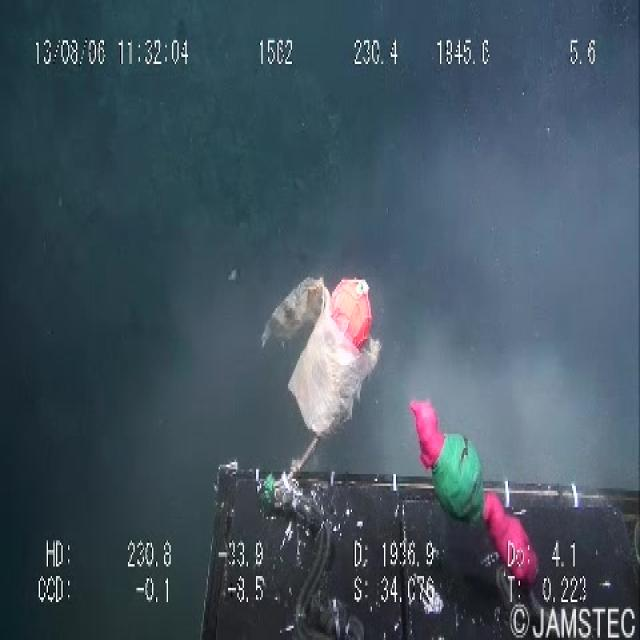plastic: (248, 237, 388, 441)
